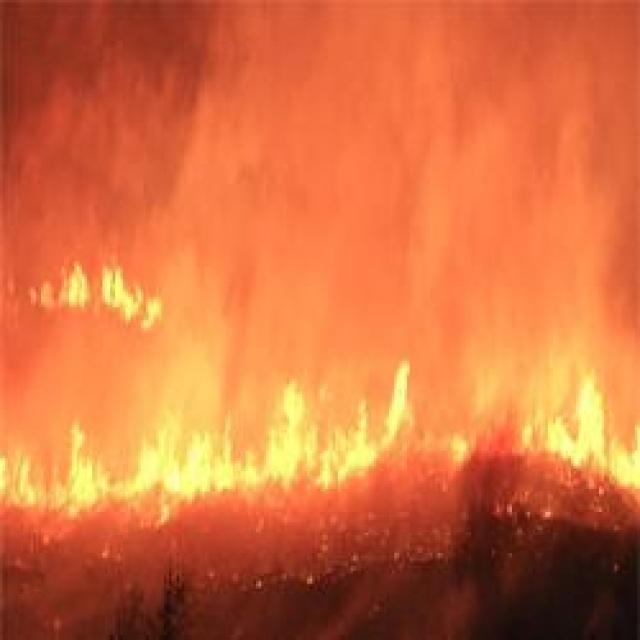Fire: (3, 353, 640, 527), (13, 248, 209, 340)
Smoke: (1, 20, 640, 361)
